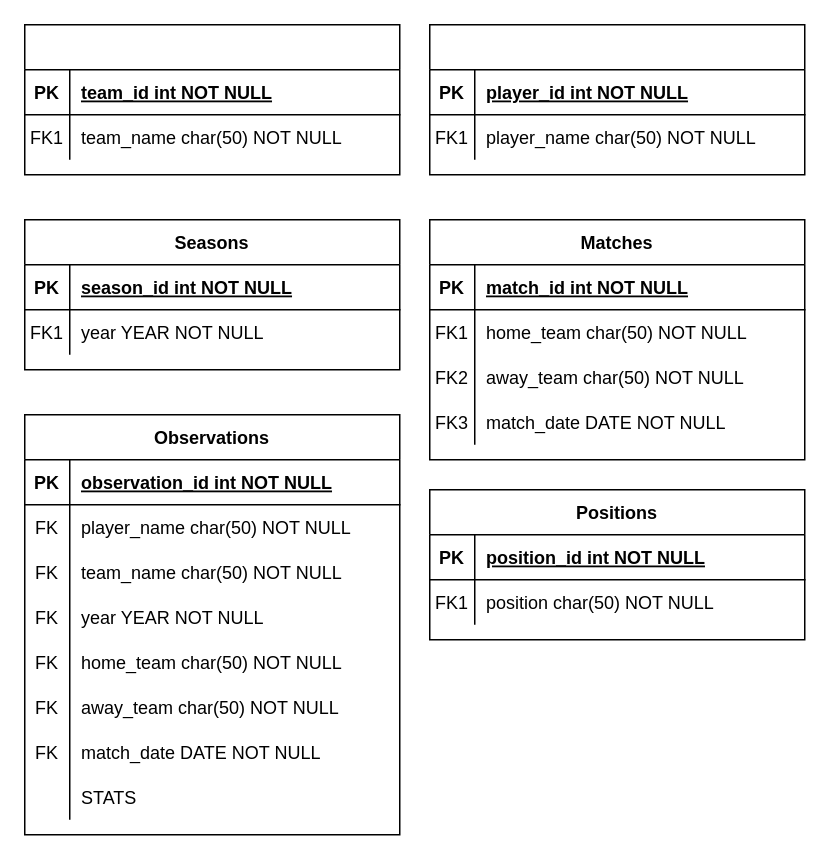
The diagram is 830 pixels wide and 860 high, and some of its shapes have lost their labels. The box of each missing label's shape, as (x1, y1, x2, y2) in pixels:
Players: (428, 23, 805, 175)
Teams: (23, 23, 400, 175)
